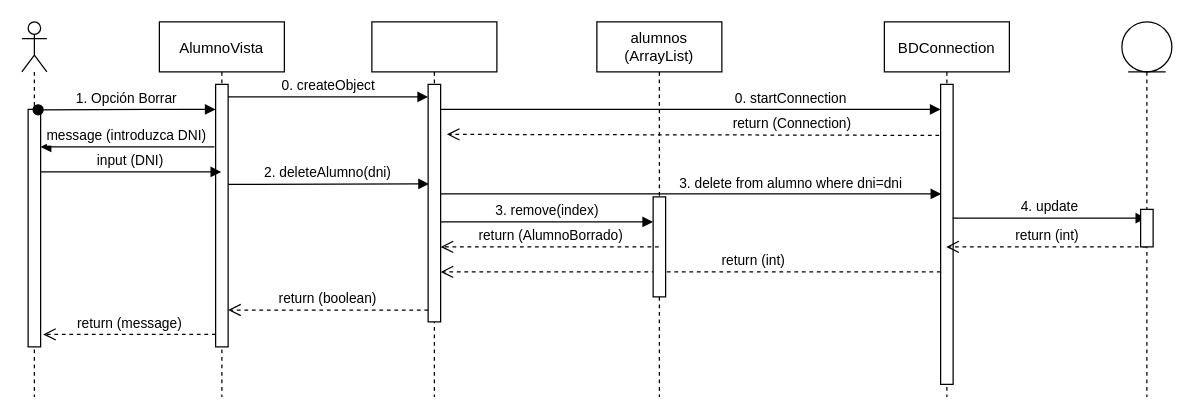
The diagram is 1194 pixels wide and 419 high, and some of its shapes have lost their labels. The shapes that lost their labels are listed below. From the top down, each one's box as (x1, y1, x2, y2) in pixels, then its label:
(371, 21, 497, 397): AlumnoController
(1121, 21, 1172, 397): BD
